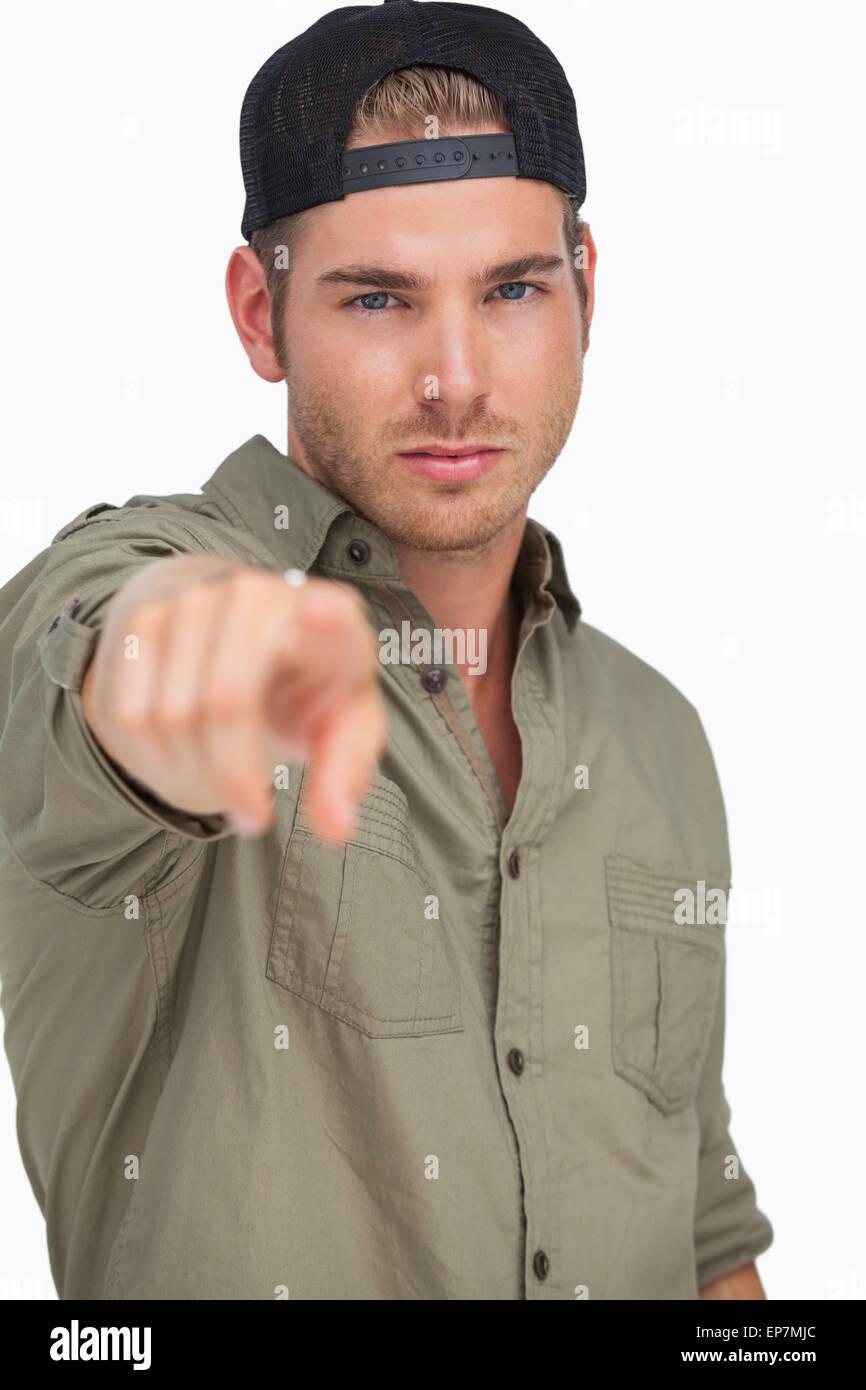cap: (200, 0, 603, 233)
